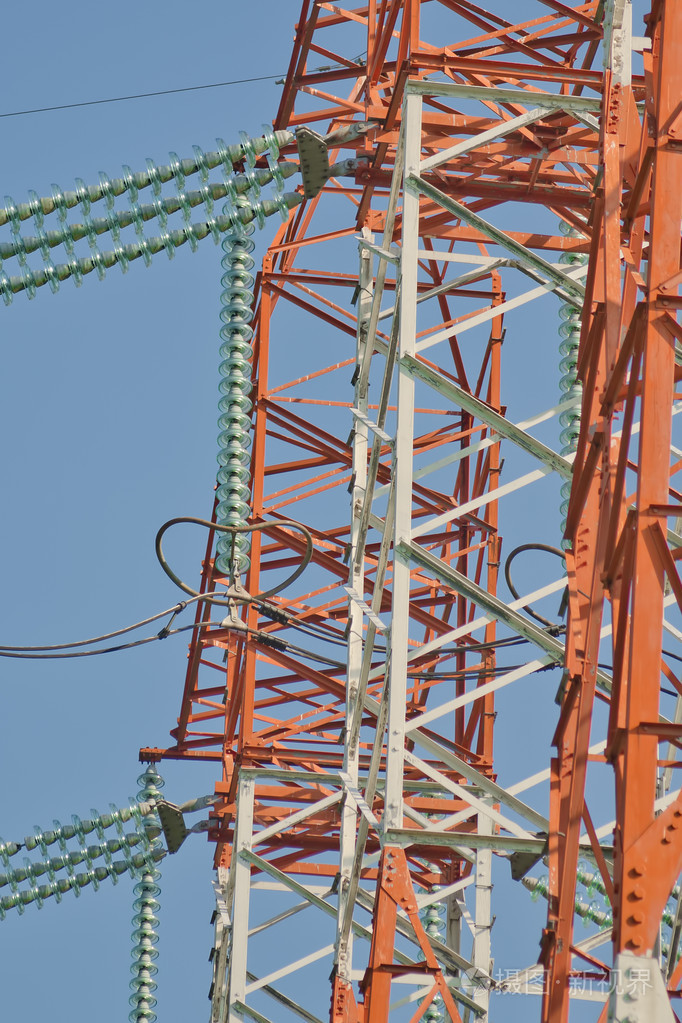insulator: (1, 163, 293, 303), (1, 124, 288, 235), (1, 791, 168, 924), (213, 236, 253, 583), (549, 219, 585, 520), (127, 772, 166, 1023), (537, 867, 624, 934), (416, 878, 453, 1023)
